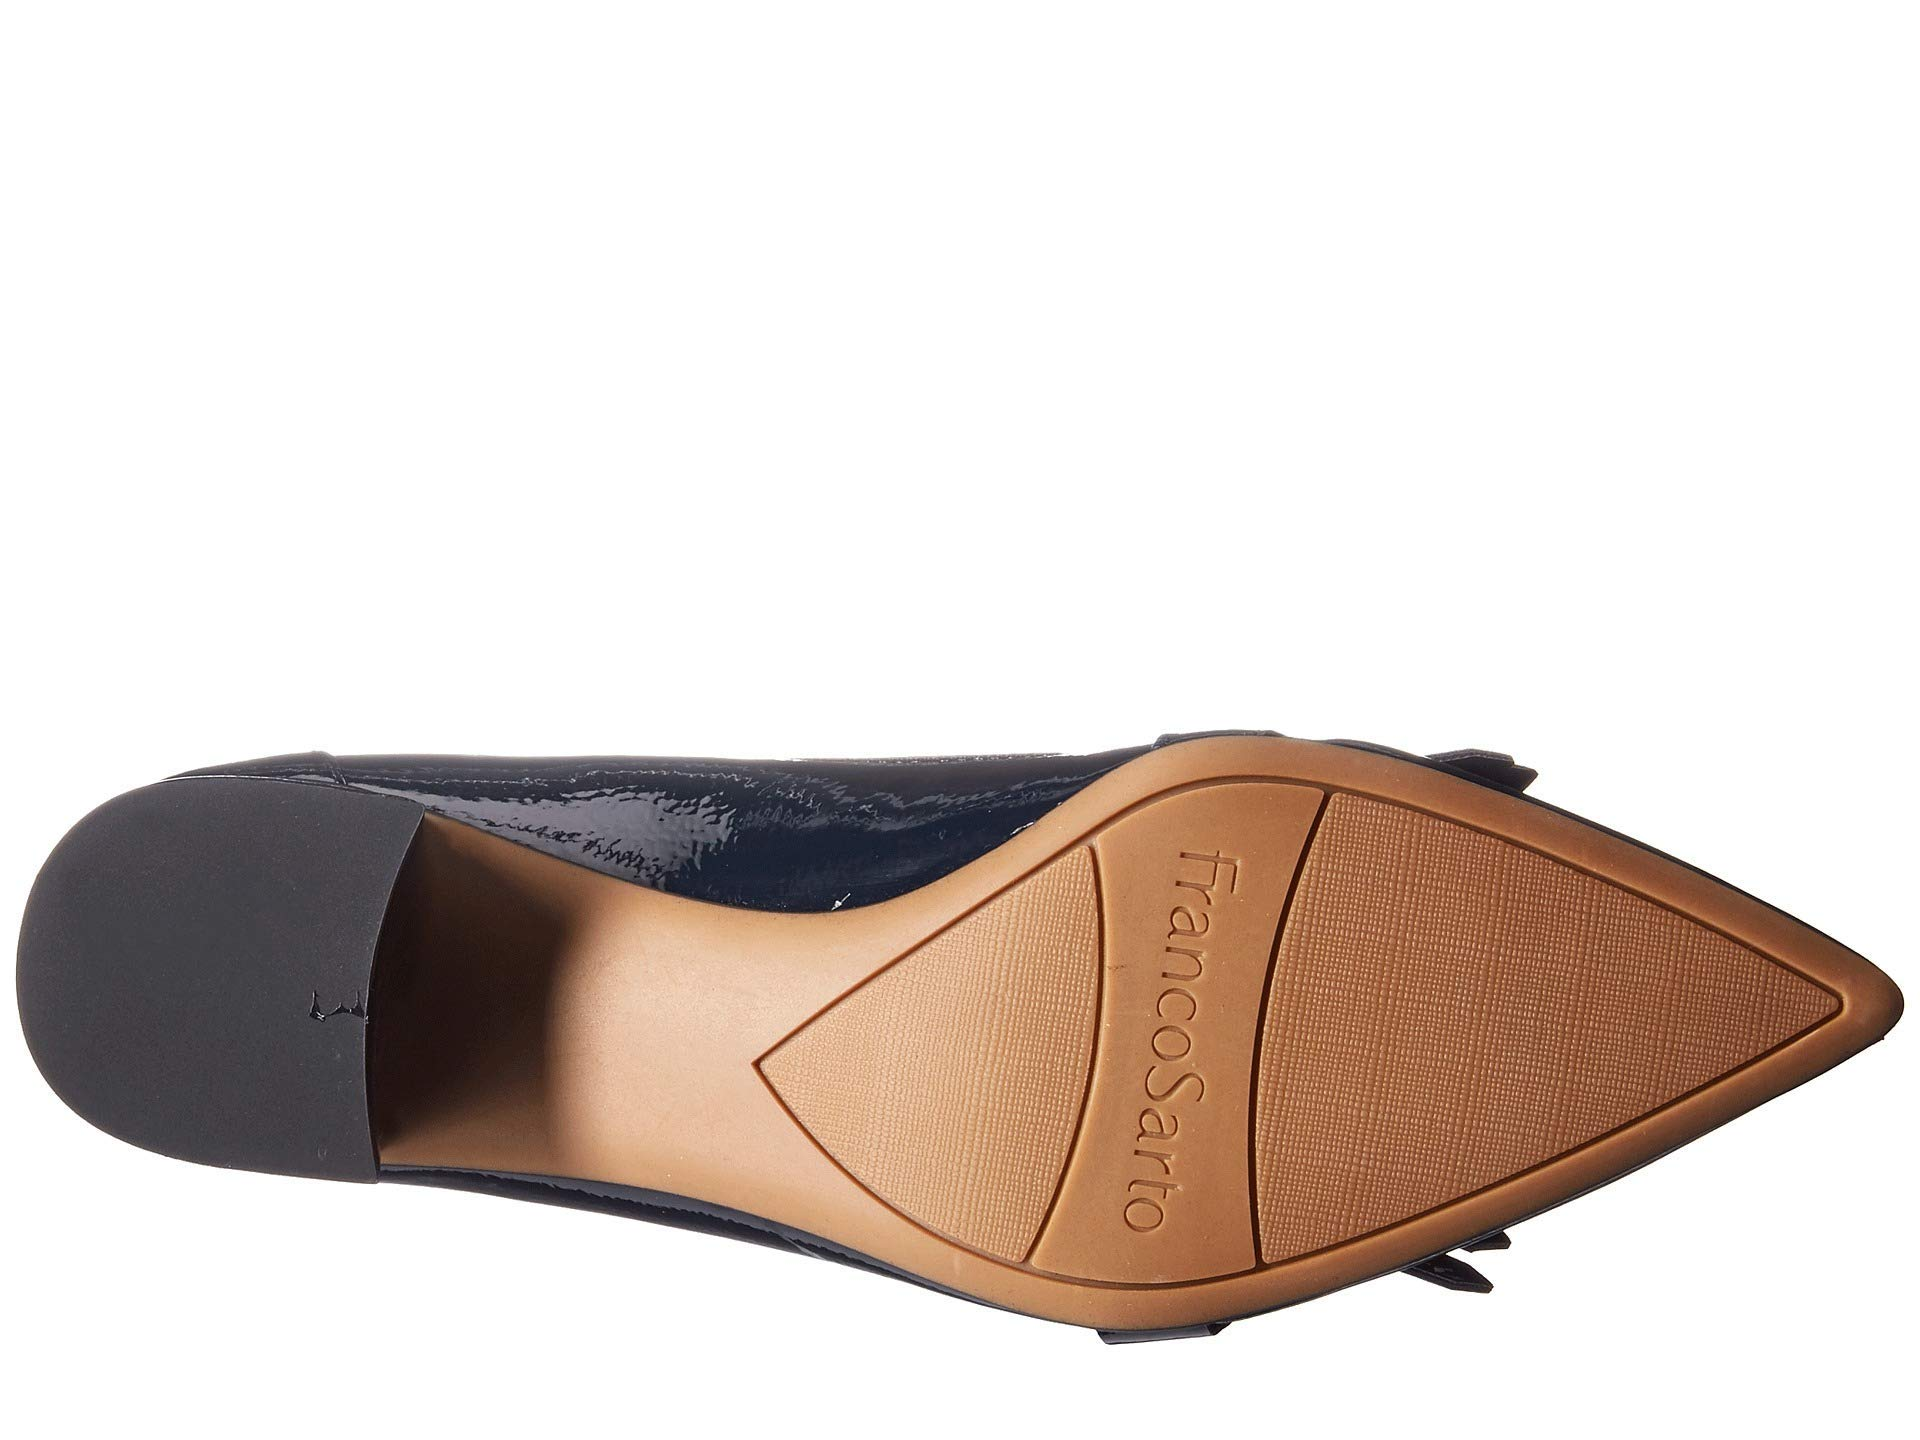circle: (1119, 818, 1259, 1246)
line: (1119, 818, 1259, 1246), (1349, 892, 1612, 1103)
text: (1119, 818, 1259, 1246)
